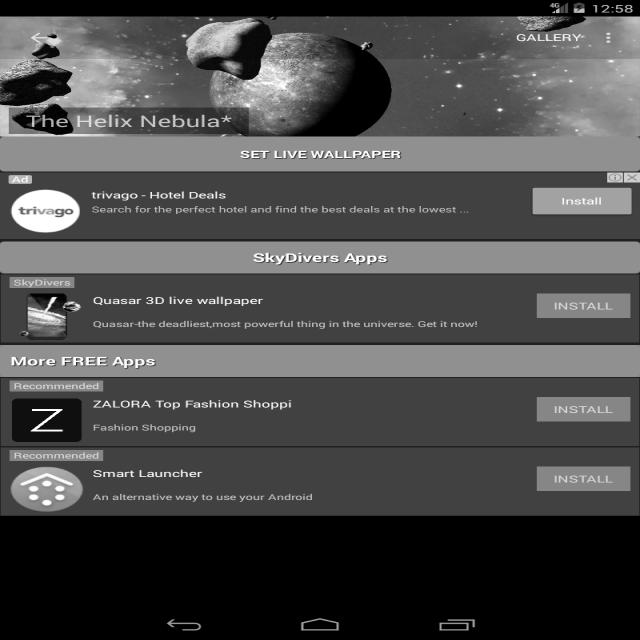Button: (524, 462, 638, 496), (529, 293, 636, 326), (534, 393, 632, 426), (527, 186, 630, 214)
ImageView: (4, 283, 78, 343), (6, 452, 84, 508), (7, 181, 87, 235), (0, 392, 80, 444)
TextView: (93, 188, 465, 224), (88, 462, 326, 504), (88, 392, 298, 438), (82, 314, 476, 334), (11, 109, 248, 132), (234, 138, 407, 164), (87, 290, 286, 306), (242, 243, 396, 263), (7, 350, 171, 366)
